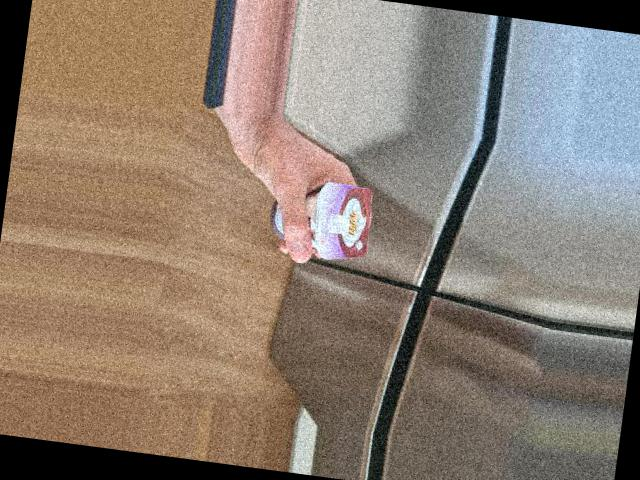milky: (262, 174, 382, 268)
